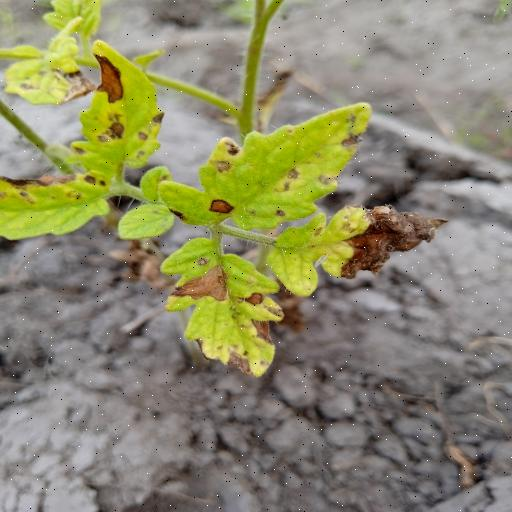Tomato_Brown_Spots: (148, 99, 376, 246), (156, 236, 282, 380), (70, 36, 165, 181)
